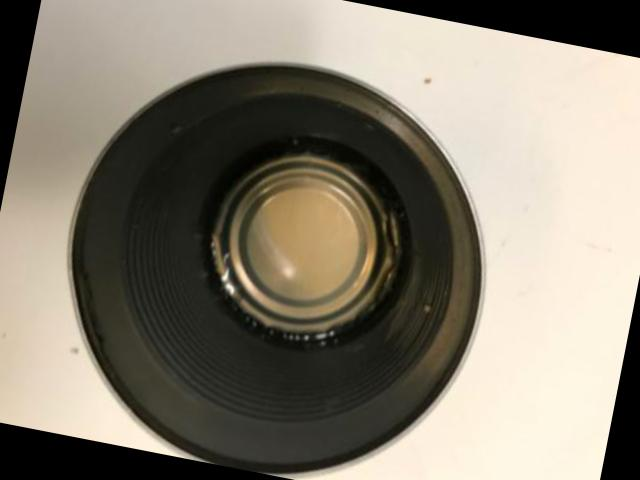metal: (72, 69, 482, 475)
